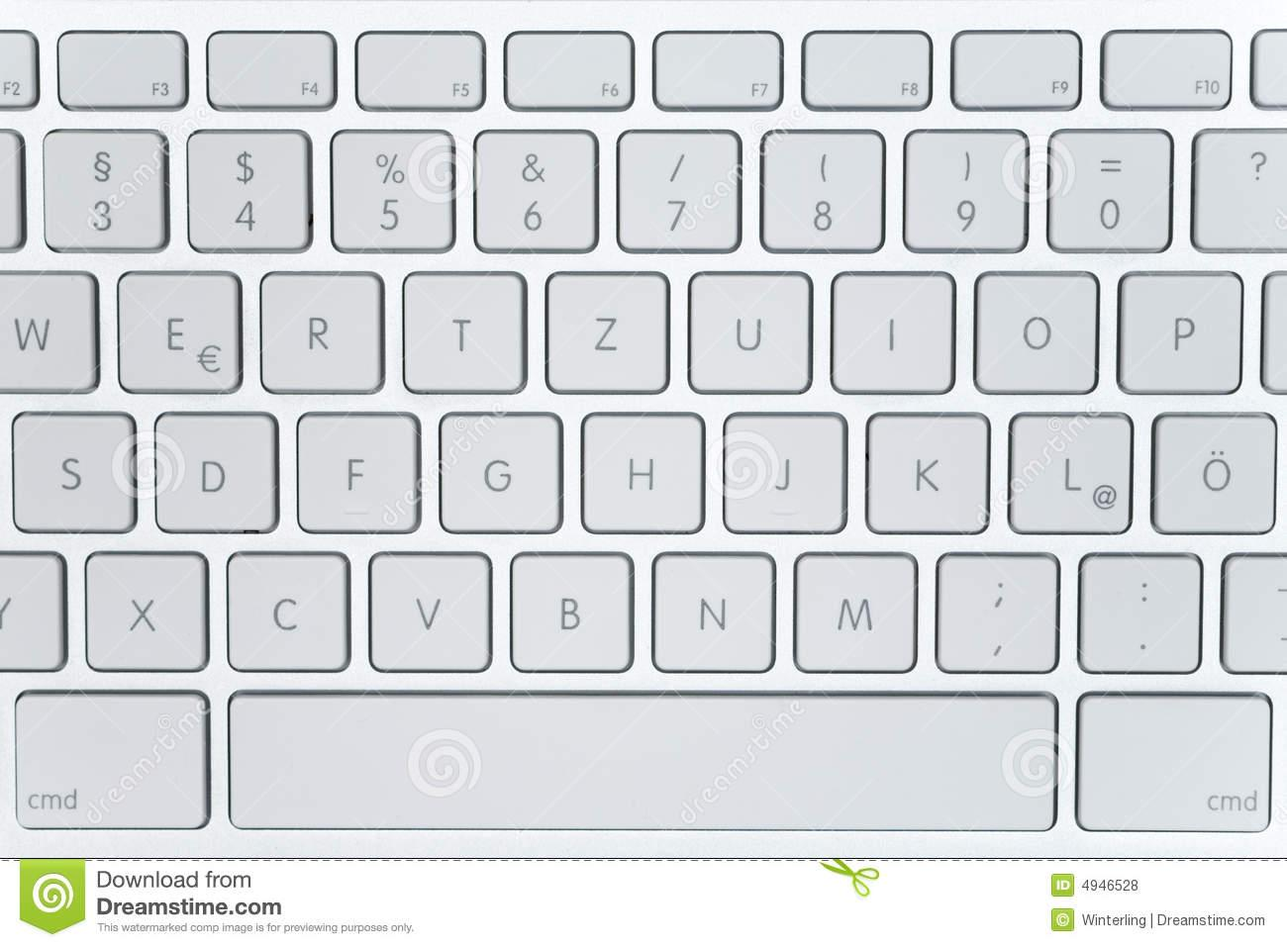0: (1043, 124, 1178, 253)
3: (41, 126, 176, 257)
4: (182, 126, 318, 257)
5: (325, 125, 460, 256)
6: (470, 129, 606, 260)
7: (612, 125, 747, 256)
8: (756, 125, 892, 256)
9: (898, 125, 1033, 254)
b: (504, 548, 637, 675)
c: (223, 547, 355, 674)
comma: (932, 548, 1063, 674)
d: (149, 410, 282, 536)
e: (114, 268, 248, 396)
f: (292, 411, 425, 537)
g: (437, 410, 569, 536)
h: (578, 411, 711, 537)
i: (828, 268, 962, 398)
j: (718, 409, 848, 535)
k: (862, 411, 993, 537)
l: (1005, 410, 1136, 536)
m: (790, 547, 921, 675)
n: (648, 547, 779, 675)
o: (969, 269, 1104, 399)
oe: (1147, 410, 1278, 536)
p: (1114, 268, 1248, 398)
point: (1075, 549, 1206, 675)
r: (257, 269, 388, 397)
s: (8, 409, 141, 535)
space: (223, 686, 1064, 836)
ss: (1188, 125, 1286, 251)
t: (399, 269, 533, 397)
u: (683, 265, 816, 396)
v: (362, 548, 495, 675)
w: (2, 264, 99, 392)
x: (80, 547, 213, 674)
z: (542, 266, 673, 396)
